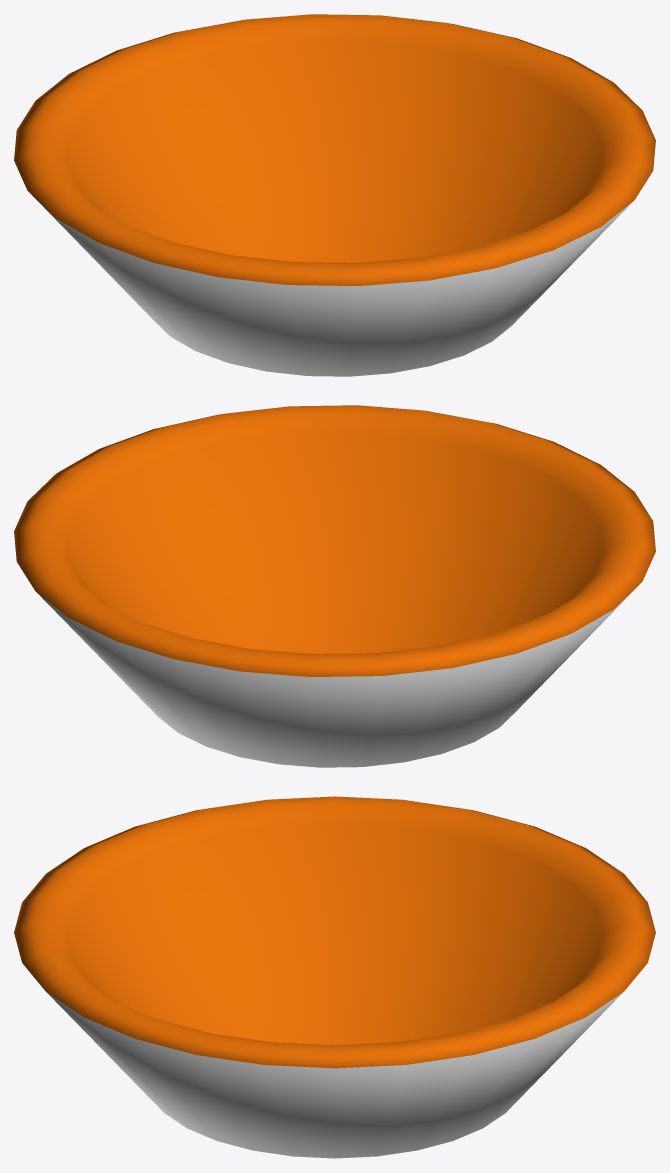
Rendered from Orange_bowl.fbx.
The picture shows the model from 3 angles, top to bottom: view 1: azimuth 30°, elevation 25°; view 2: azimuth 150°, elevation 25°; view 3: azimuth 270°, elevation 25°; orthographic projection.
Parts seen in each view (by area): view 1: Orange_bowl; view 2: Orange_bowl; view 3: Orange_bowl.
Part boxes in pixels (<box>): Orange_bowl: <box>14,14,655,376</box>; Orange_bowl: <box>14,405,655,767</box>; Orange_bowl: <box>14,796,655,1158</box>.
Size of the model in its own units: 0.127 by 0.0363 by 0.127.
Materials: 2 (1 with a texture image).
